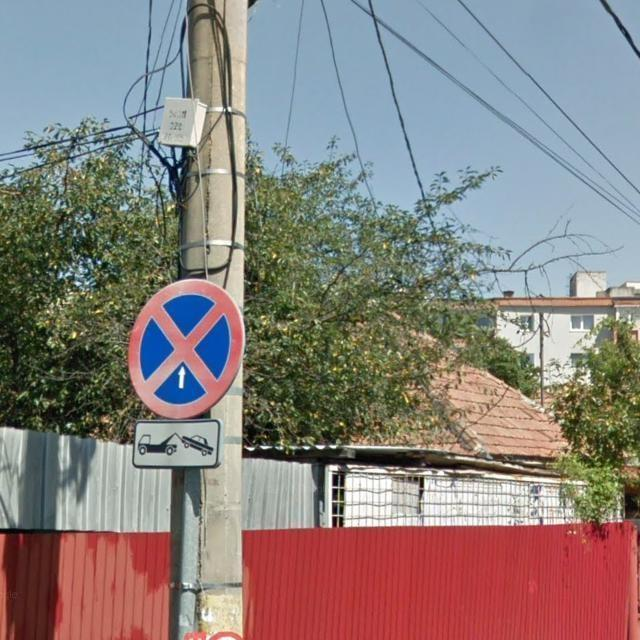forb_waiting: (126, 277, 244, 418)
